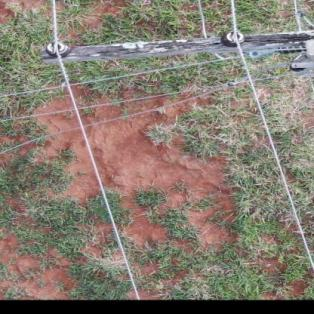Poste: (295, 42, 313, 123)
